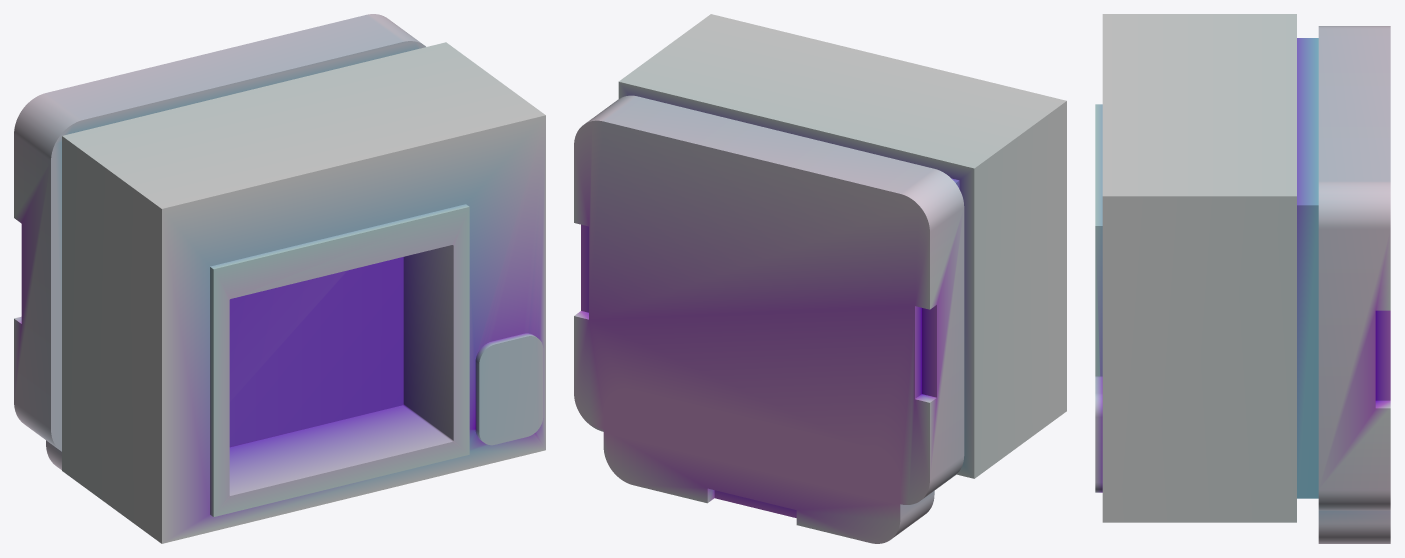
3 renders of one model, left to right at view 1: azimuth 30°, elevation 25°; view 2: azimuth 150°, elevation 25°; view 3: azimuth 270°, elevation 25°, orthographic. The views are drawn at different scales.
Parts seen in each view (by area): view 1: cover; view 2: cover; view 3: cover.
Boxes of the visible parts, left/top/right/bottom form: cover: left=14, top=14, right=545, bottom=543; cover: left=574, top=14, right=1066, bottom=543; cover: left=1095, top=14, right=1390, bottom=543.
Bounding box in the file's own units: 0.6 × 0.5743 × 0.41.
